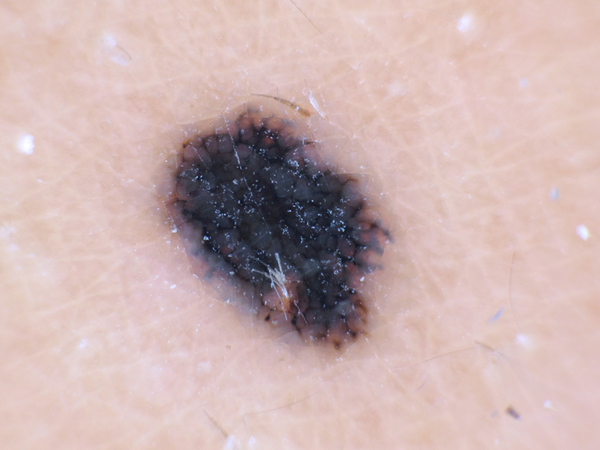Detected Lesion: (158, 105, 401, 363)
